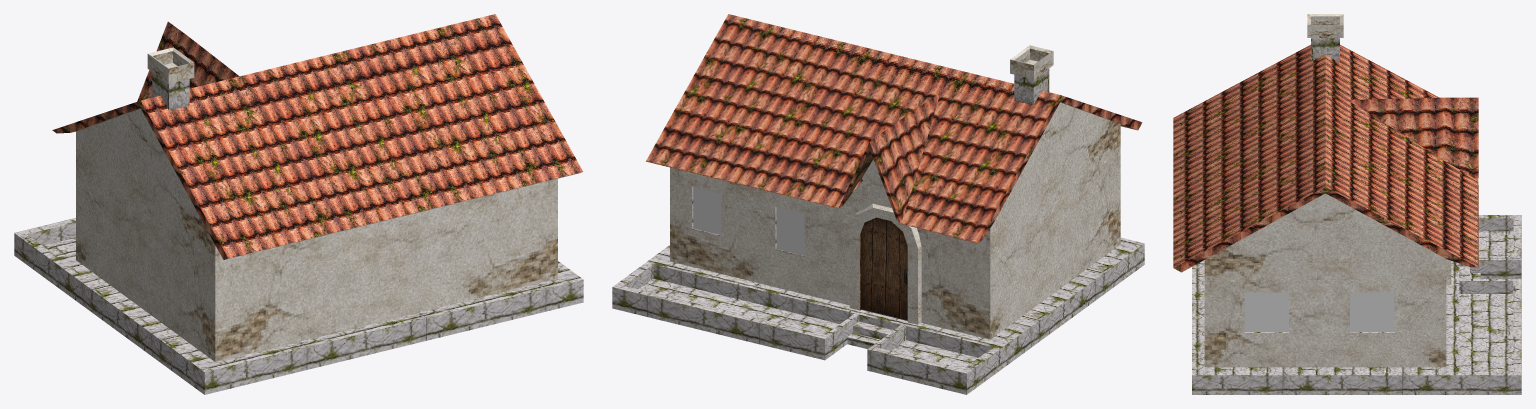
Rendered from RobertoHouse.fbx.
3 views of the same model, side by side, from view 1: azimuth 30°, elevation 25°; view 2: azimuth 150°, elevation 25°; view 3: azimuth 270°, elevation 25° (orthographic). The views are drawn at different scales.
Parts seen in each view (by area): view 1: House.001; view 2: House.001; view 3: House.001.
Part boxes in pixels (x1,y1,x2,y2): House.001: [14, 14, 583, 394]; House.001: [612, 14, 1144, 394]; House.001: [1173, 14, 1521, 394].
Size of the model in its own units: 31.75 by 21.58 by 29.16.
